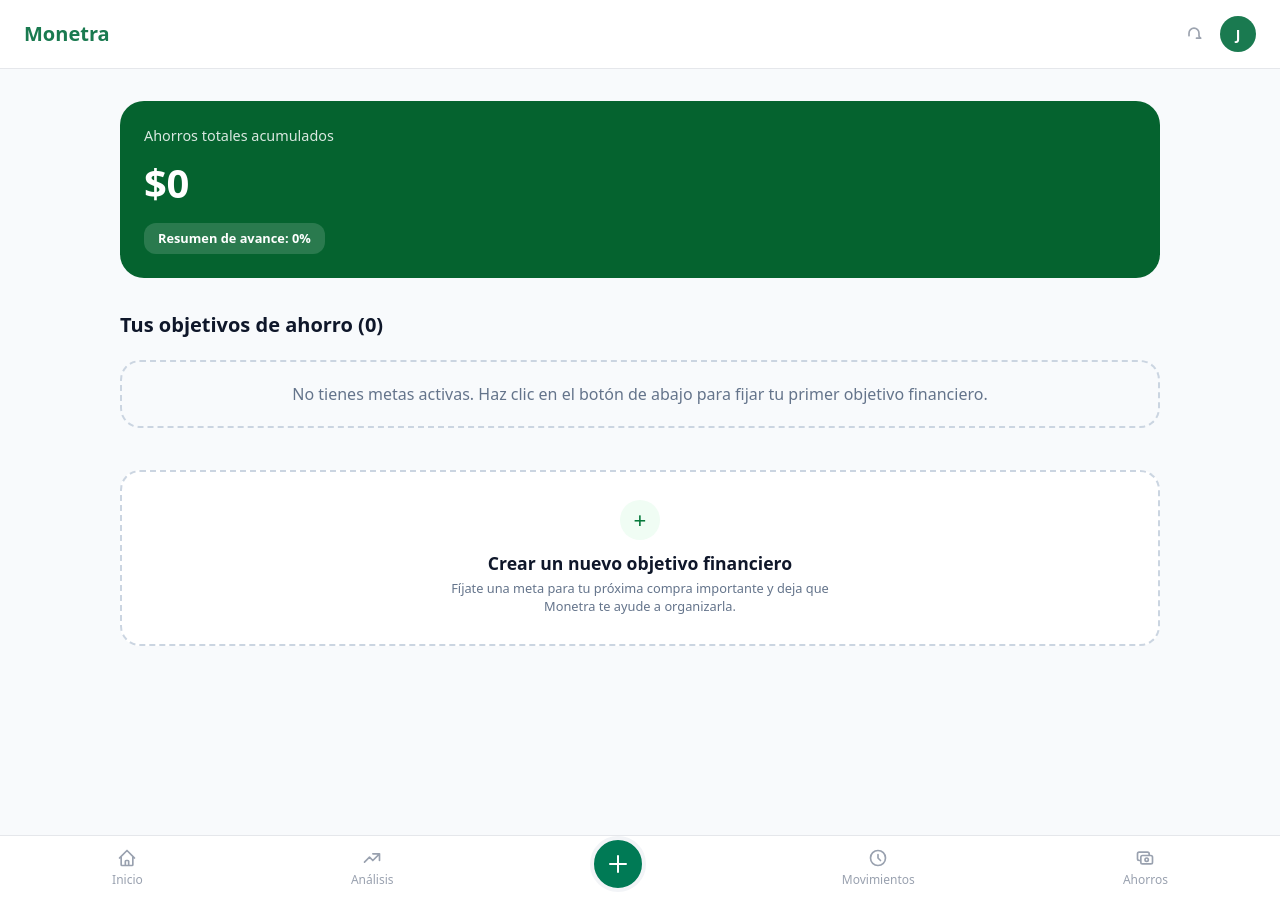
Scenario: SavingsView — crear una meta nueva › abre el modal "Nuevo Objetivo Financiero" al hacer clic en la tarjeta punteada
Click the heading "Crear un nuevo objetivo financiero". click: (640, 563)
box: x1=488 y1=550 x2=792 y2=576
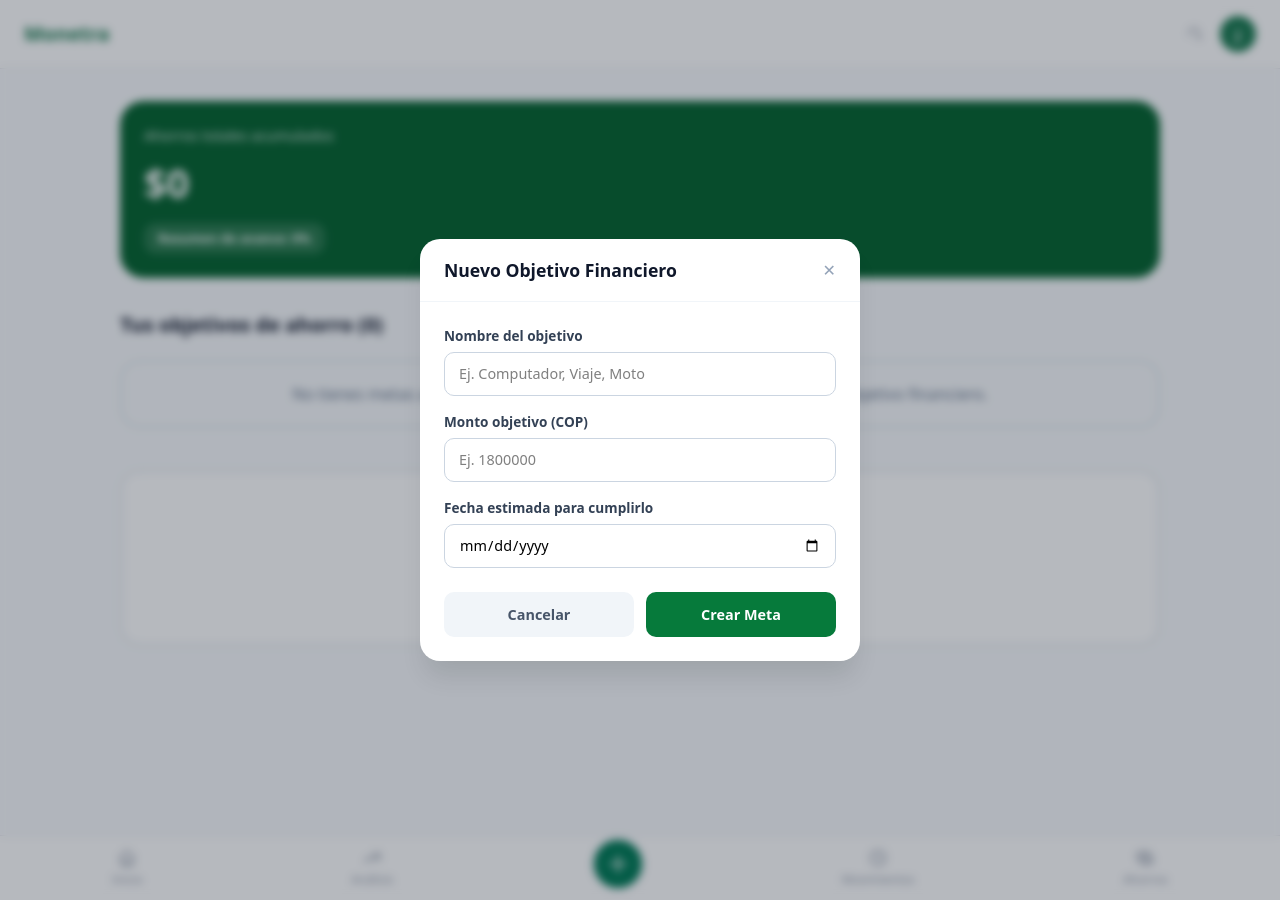
Expected: the heading "Nuevo Objetivo Financiero" is shown, x1=444 y1=256 x2=677 y2=283
